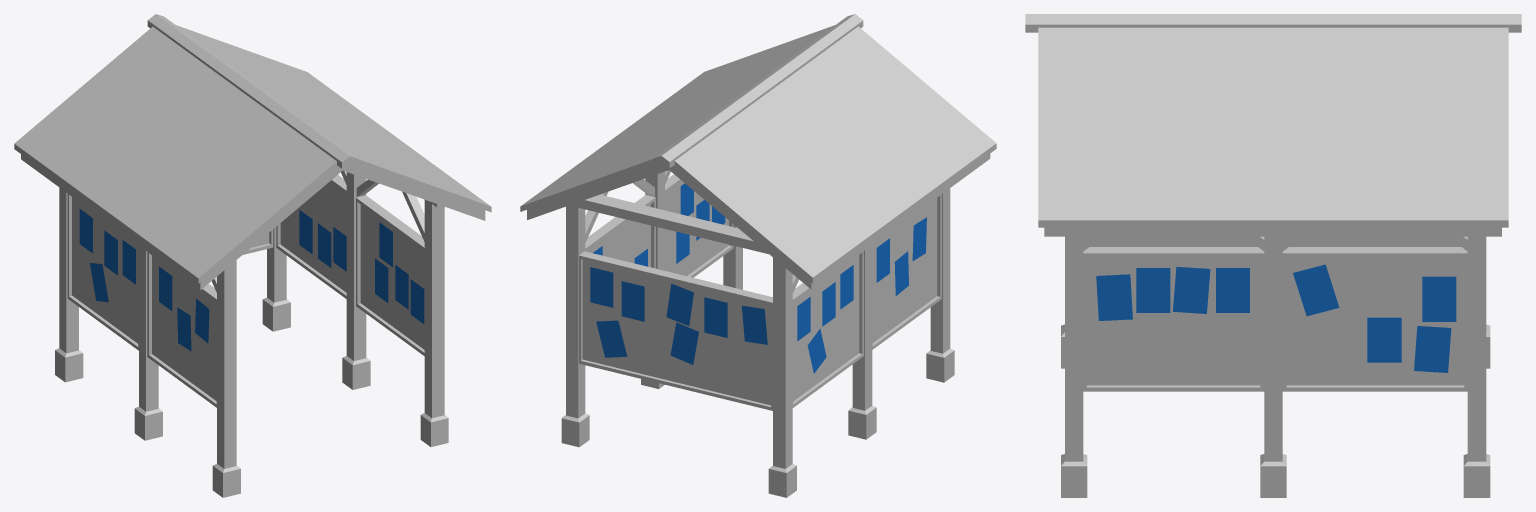
Rendered from SM_Bulletin_board.fbx.
The picture shows the model from 3 angles, left to right: view 1: azimuth 30°, elevation 25°; view 2: azimuth 150°, elevation 25°; view 3: azimuth 270°, elevation 25°; orthographic projection. The views are drawn at different scales.
Visible parts, largest first — view 1: Cube_4; view 2: Cube_4; view 3: Cube_4.
Part boxes in pixels (x1,y1,x2,y2): Cube_4: [14, 14, 491, 497]; Cube_4: [520, 14, 996, 497]; Cube_4: [1025, 14, 1521, 497].
Bounding box in the file's own units: 327 × 345 × 375.
